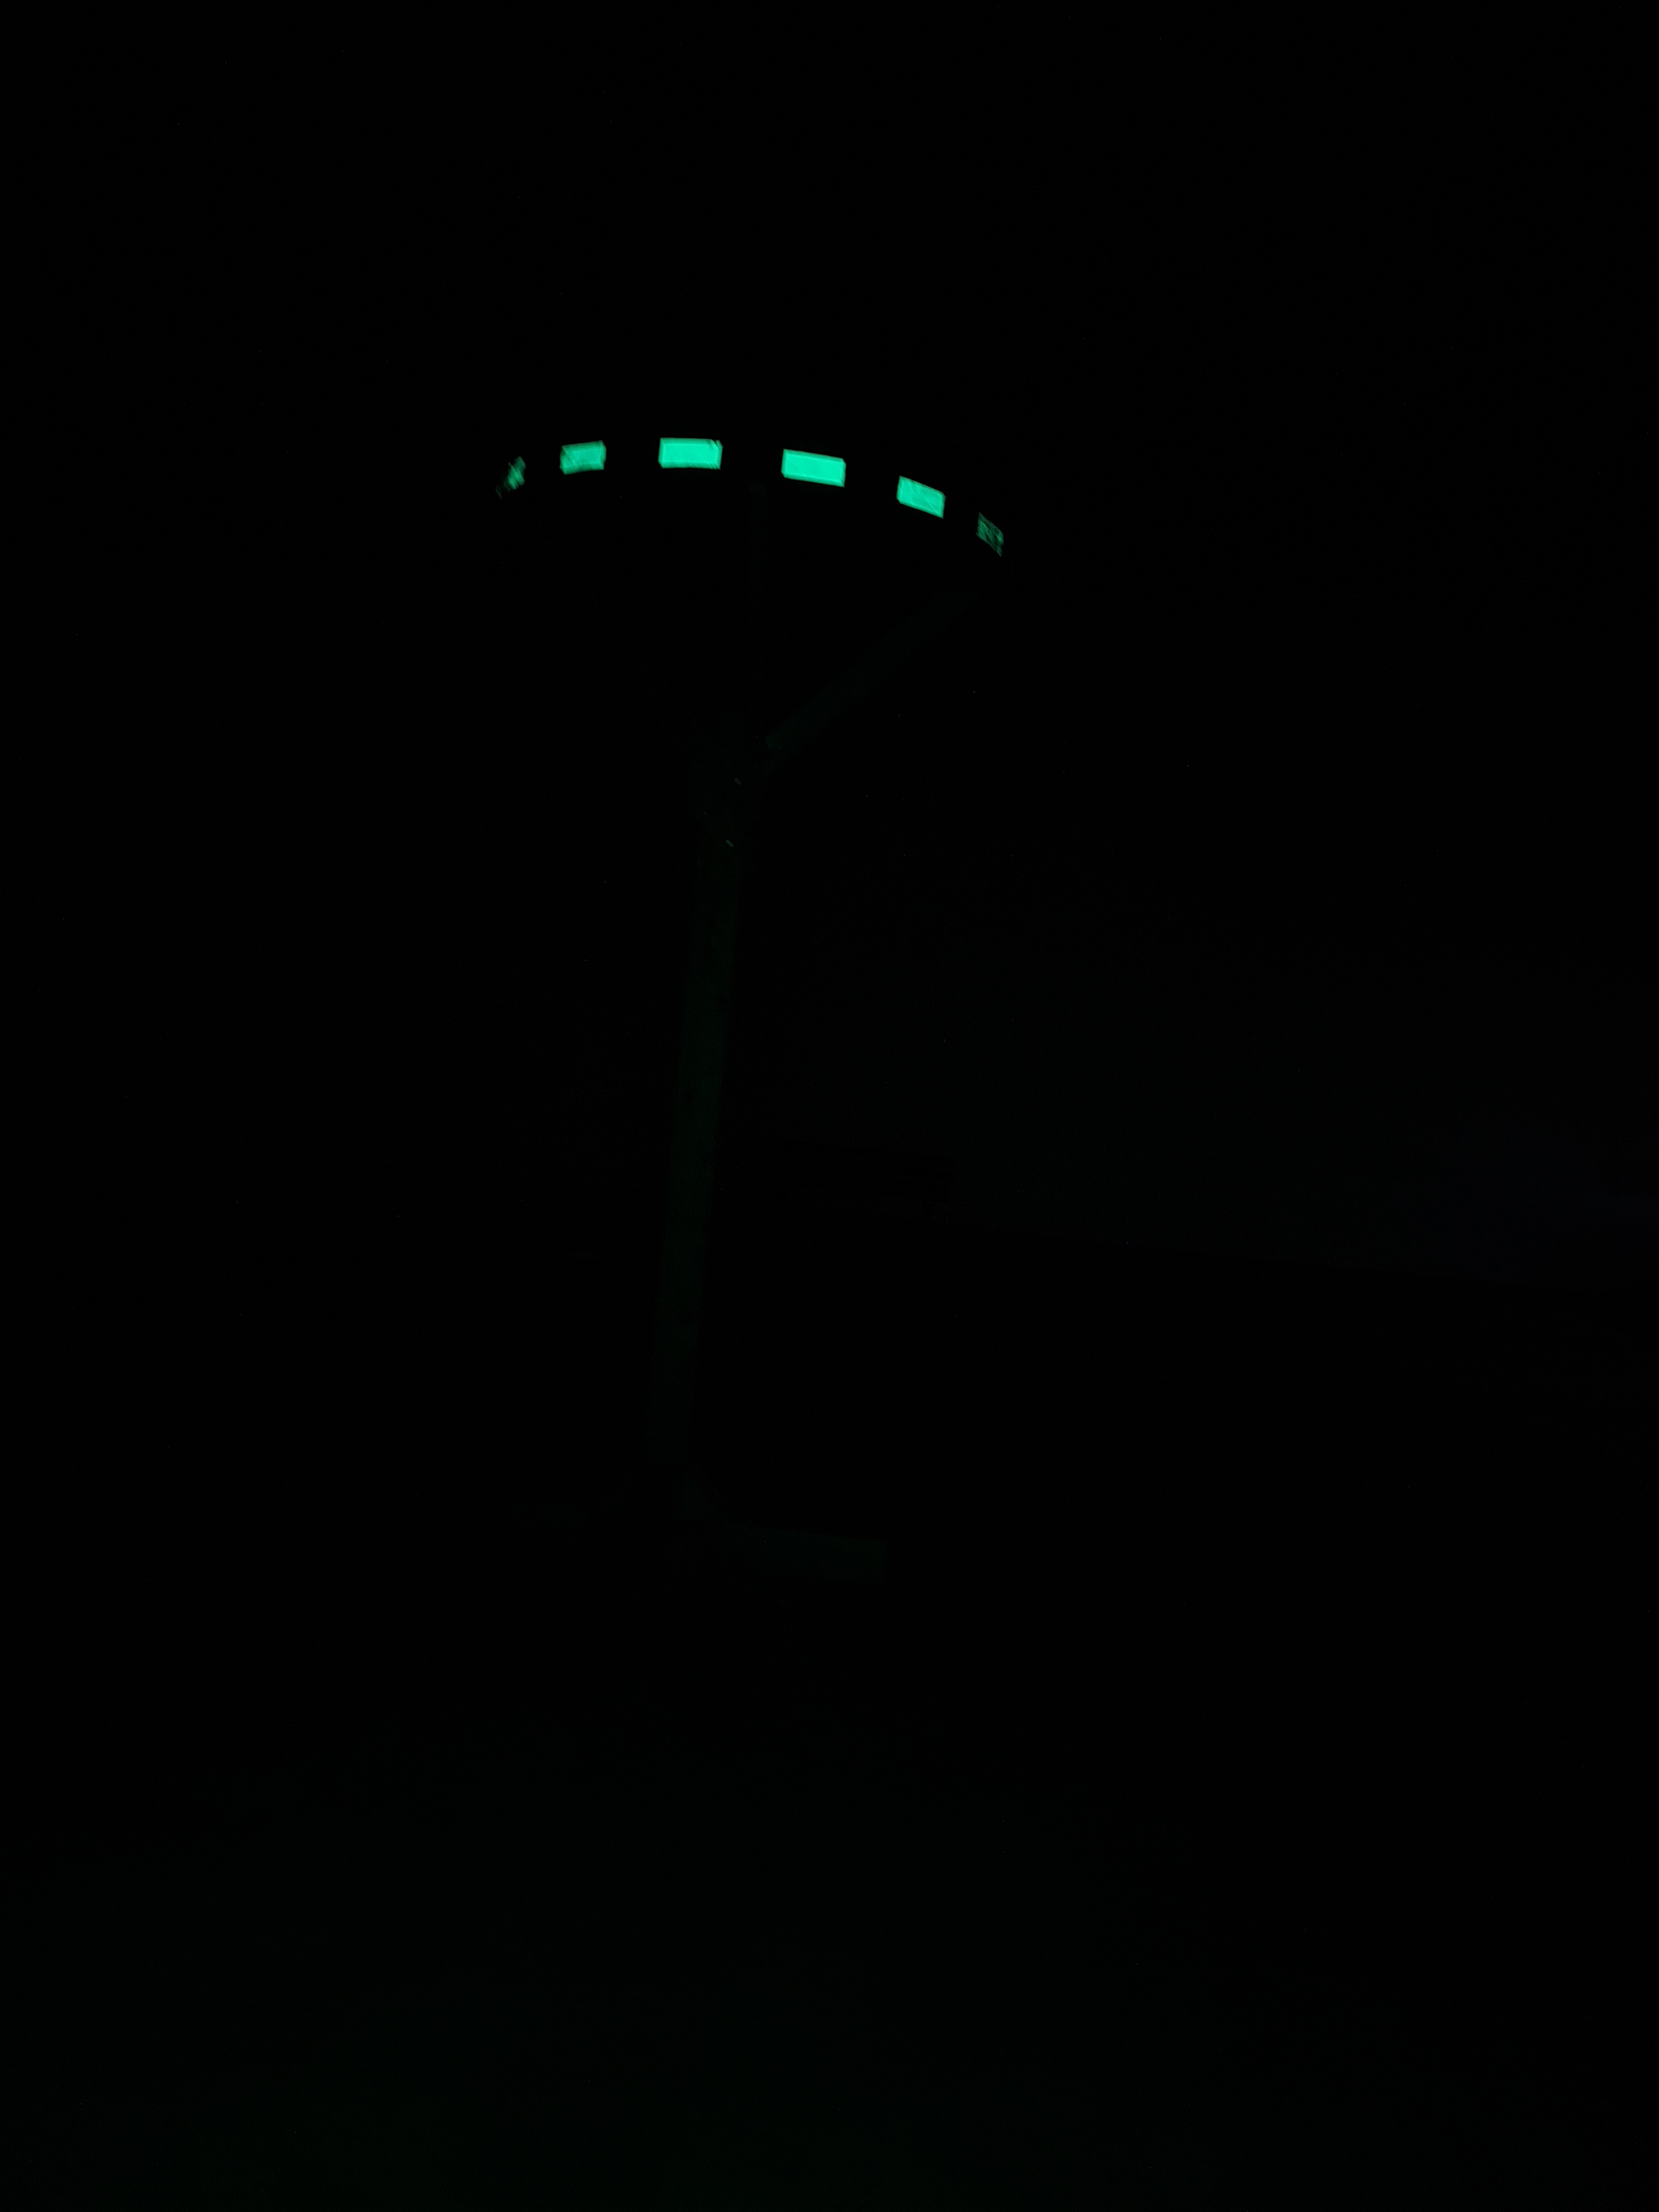hoop: (486, 425, 1009, 571)
